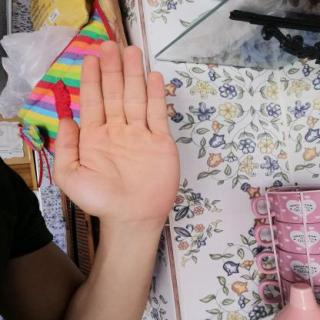SEEN: (43, 36, 188, 230)
